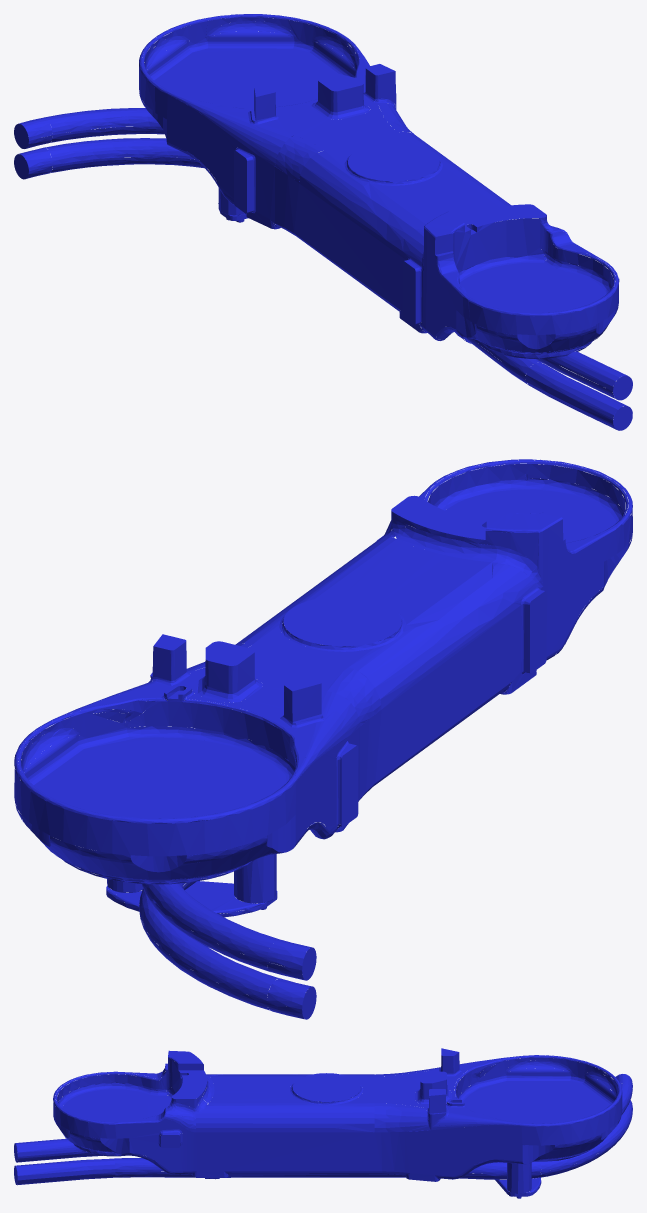
3 renders of one model, top to bottom at view 1: azimuth 30°, elevation 25°; view 2: azimuth 150°, elevation 25°; view 3: azimuth 270°, elevation 25°, orthographic. The views are drawn at different scales.
Parts seen in each view (by area): view 1: /Link2/Link2_001-mesh/0; view 2: /Link2/Link2_001-mesh/0; view 3: /Link2/Link2_001-mesh/0.
Part boxes in pixels (x1=…): /Link2/Link2_001-mesh/0: x1=14, y1=14, x2=632, y2=430; /Link2/Link2_001-mesh/0: x1=14, y1=459, x2=632, y2=1019; /Link2/Link2_001-mesh/0: x1=14, y1=1048, x2=632, y2=1198.
Bounding box in the file's own units: 0.4779 × 0.2536 × 1.27.
